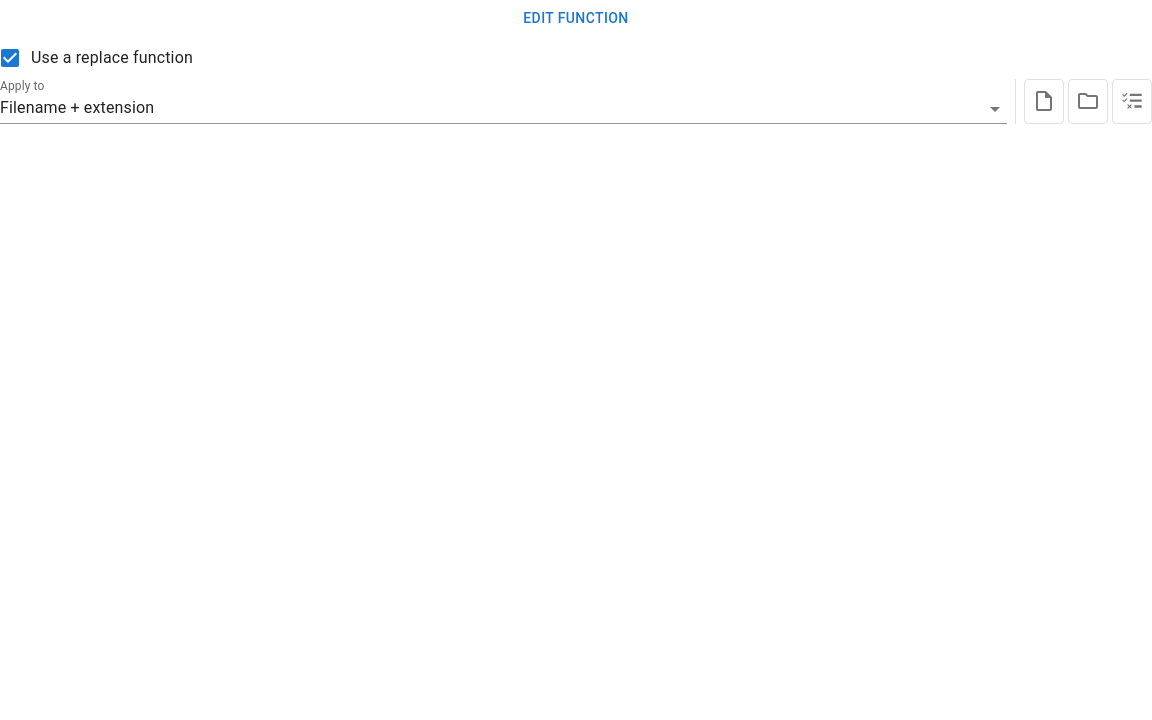
Test case: ReplaceSettingsForm › displays a modal to edit the function if "useFunction" is true and the "Edit function" button is clicked
Click the button "Edit Function": (576, 18) [0,0,1151,36]
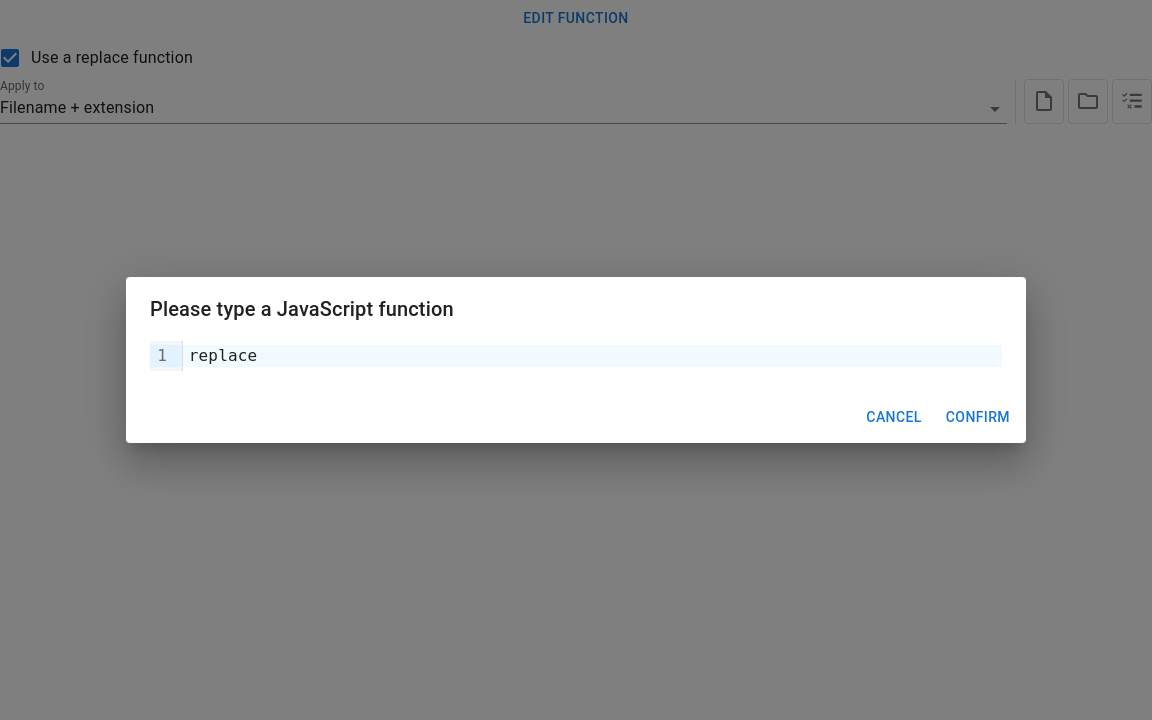
expect the dialog is shown: met, box [126,276,1026,443]
